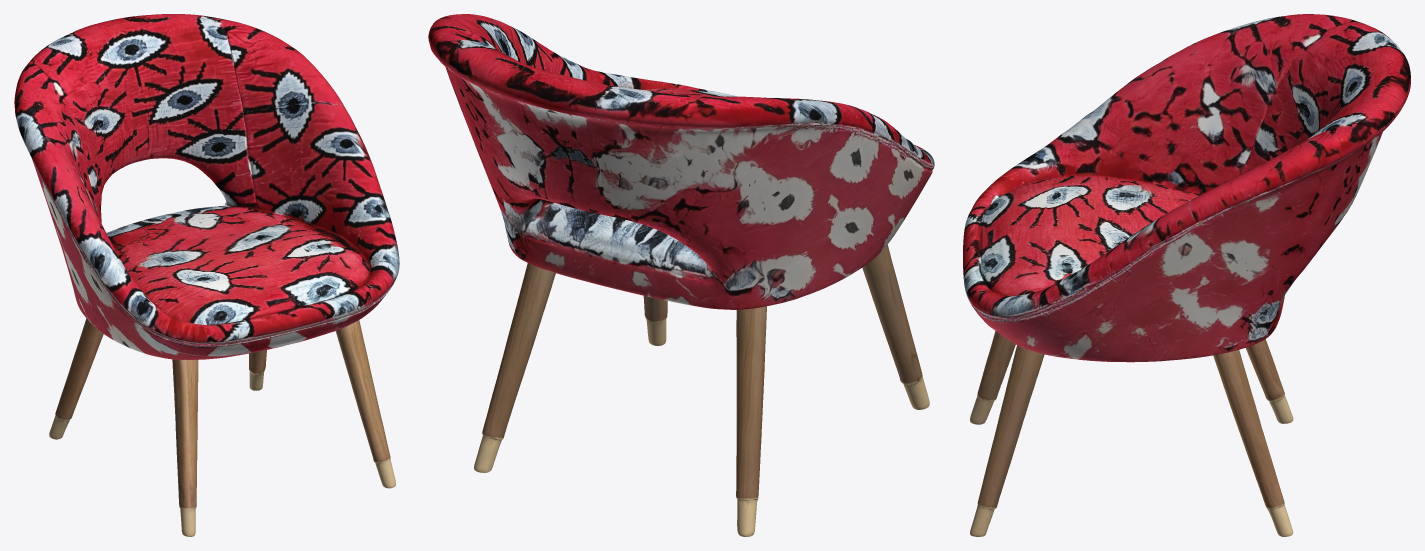
3 views of the same model, side by side, from view 1: azimuth 30°, elevation 25°; view 2: azimuth 150°, elevation 25°; view 3: azimuth 270°, elevation 25° (orthographic). The views are drawn at different scales.
Parts seen in each view (by area): view 1: model; view 2: model; view 3: model.
Boxes of the visible parts, x1=… form: model: x1=14, y1=14, x2=399, y2=536; model: x1=428, y1=14, x2=934, y2=536; model: x1=963, y1=14, x2=1410, y2=536.
Size of the model in its own units: 0.6333 by 0.72 by 0.7095.
1 material, 1 textured.
